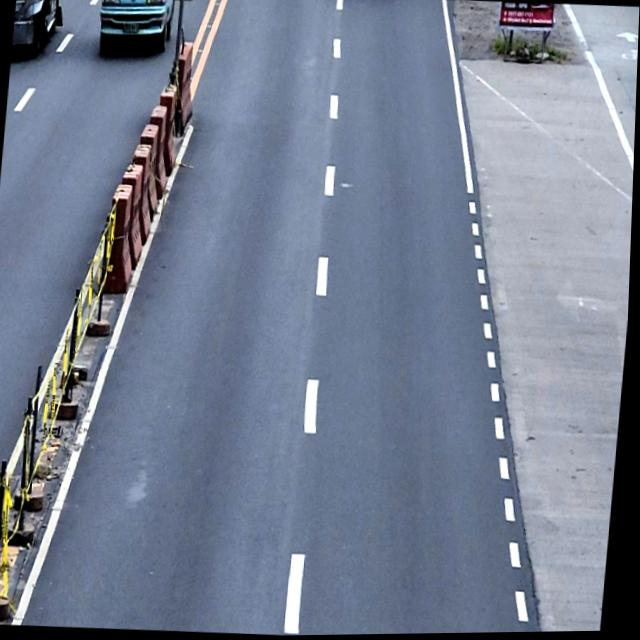Car: (96, 0, 175, 57), (11, 0, 63, 59)
License-Plate: (121, 22, 141, 35)
